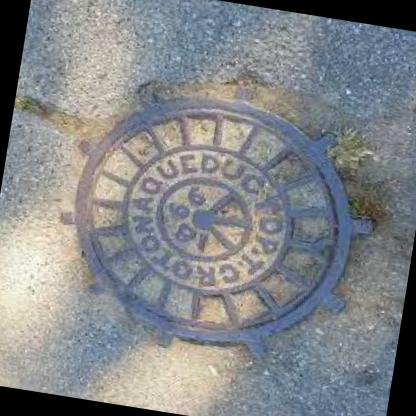manholes: (8, 18, 416, 404)
